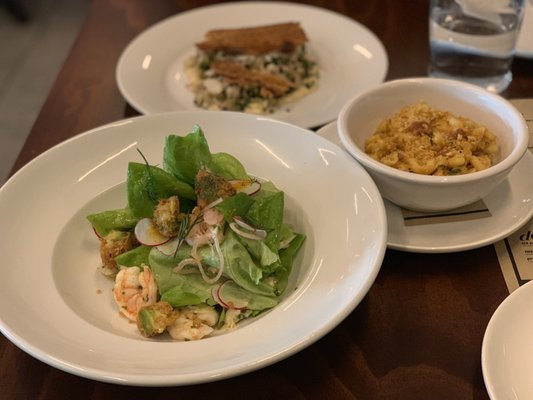burger: (401, 197, 492, 224)
pizza: (427, 0, 528, 94)
sushi: (7, 107, 388, 382), (337, 77, 530, 213), (480, 278, 533, 400)
